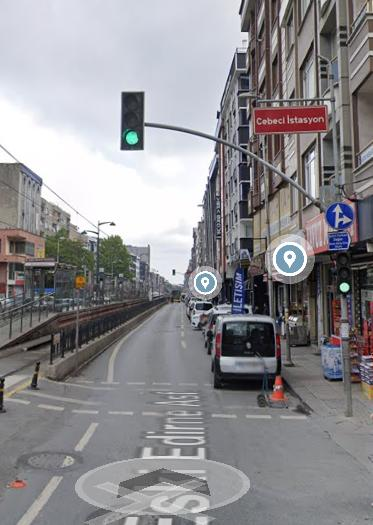greenlight: (120, 91, 144, 151), (335, 248, 354, 297)
